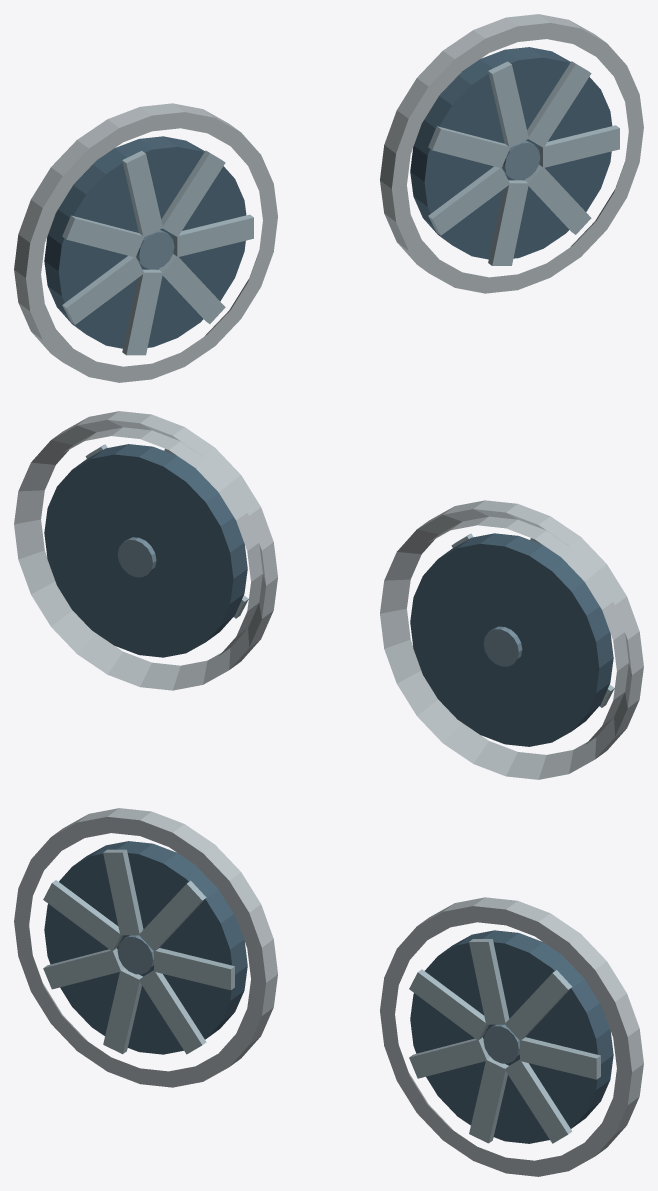
Rendered from 05_L69_CondenserFanBank.glb.
3 views of the same model, one above another, from view 1: azimuth 30°, elevation 25°; view 2: azimuth 150°, elevation 25°; view 3: azimuth 330°, elevation 25° (orthographic).
Visible parts, largest first — view 1: CondenserFanBank_Part_010, CondenserFanBank_Part_000, CondenserFanBank_Part_011, CondenserFanBank_Part_001, CondenserFanBank_Part_006, CondenserFanBank_Part_016, CondenserFanBank_Part_003, CondenserFanBank_Part_013, CondenserFanBank_Part_007, CondenserFanBank_Part_017, CondenserFanBank_Part_012, CondenserFanBank_Part_004 (+8 smaller); view 2: CondenserFanBank_Part_000, CondenserFanBank_Part_010, CondenserFanBank_Part_011, CondenserFanBank_Part_001, CondenserFanBank_Part_009, CondenserFanBank_Part_019; view 3: CondenserFanBank_Part_000, CondenserFanBank_Part_010, CondenserFanBank_Part_001, CondenserFanBank_Part_011, CondenserFanBank_Part_004, CondenserFanBank_Part_014, CondenserFanBank_Part_008, CondenserFanBank_Part_018, CondenserFanBank_Part_015, CondenserFanBank_Part_005, CondenserFanBank_Part_012, CondenserFanBank_Part_002 (+8 smaller).
Boxes of the visible parts, bbox=[...] form: CondenserFanBank_Part_010: bbox=[410, 47, 612, 259]; CondenserFanBank_Part_000: bbox=[44, 136, 246, 348]; CondenserFanBank_Part_011: bbox=[380, 14, 643, 293]; CondenserFanBank_Part_001: bbox=[14, 103, 277, 382]; CondenserFanBank_Part_006: bbox=[62, 256, 143, 324]; CondenserFanBank_Part_016: bbox=[428, 166, 509, 235]; CondenserFanBank_Part_003: bbox=[161, 150, 225, 237]; CondenserFanBank_Part_013: bbox=[527, 61, 591, 147]; CondenserFanBank_Part_007: bbox=[122, 269, 162, 355]; CondenserFanBank_Part_017: bbox=[488, 180, 528, 265]; CondenserFanBank_Part_012: bbox=[539, 125, 619, 167]; CondenserFanBank_Part_004: bbox=[122, 151, 162, 237]; CondenserFanBank_Part_000: bbox=[410, 533, 613, 746]; CondenserFanBank_Part_010: bbox=[44, 444, 247, 657]; CondenserFanBank_Part_011: bbox=[14, 411, 277, 690]; CondenserFanBank_Part_001: bbox=[380, 500, 643, 779]; CondenserFanBank_Part_009: bbox=[483, 626, 522, 666]; CondenserFanBank_Part_019: bbox=[117, 537, 156, 577]; CondenserFanBank_Part_000: bbox=[44, 841, 247, 1054]; CondenserFanBank_Part_010: bbox=[410, 930, 613, 1143]; CondenserFanBank_Part_001: bbox=[14, 808, 277, 1087]; CondenserFanBank_Part_011: bbox=[380, 897, 643, 1176]; CondenserFanBank_Part_004: bbox=[103, 849, 143, 935]; CondenserFanBank_Part_014: bbox=[469, 939, 509, 1024]; CondenserFanBank_Part_008: bbox=[139, 970, 206, 1054]; CondenserFanBank_Part_018: bbox=[505, 1060, 572, 1143]; CondenserFanBank_Part_015: bbox=[409, 969, 488, 1040]; CondenserFanBank_Part_005: bbox=[43, 880, 123, 951]; CondenserFanBank_Part_012: bbox=[520, 1037, 600, 1079]; CondenserFanBank_Part_002: bbox=[154, 948, 234, 990].
Bounding box in the file's own units: 2.99 × 1.22 × 0.1875.
